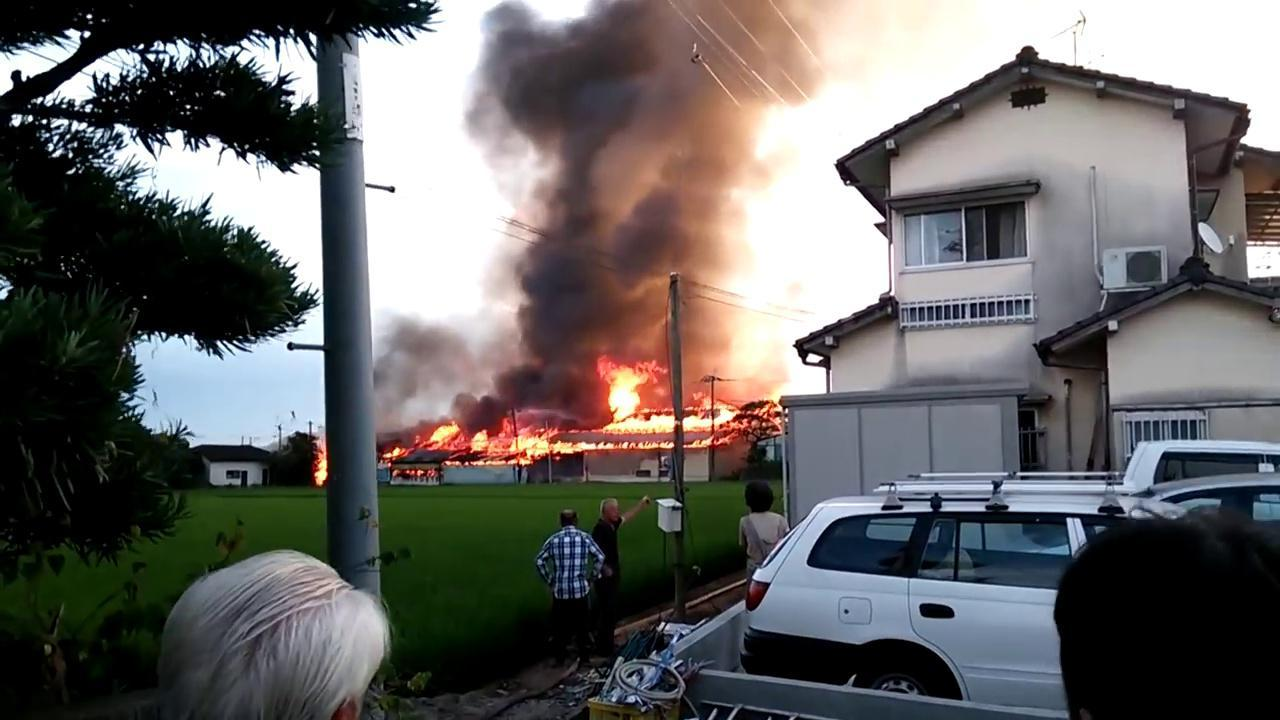Fire: (605, 370, 785, 437), (423, 433, 715, 462), (313, 449, 330, 483), (380, 444, 404, 463)
